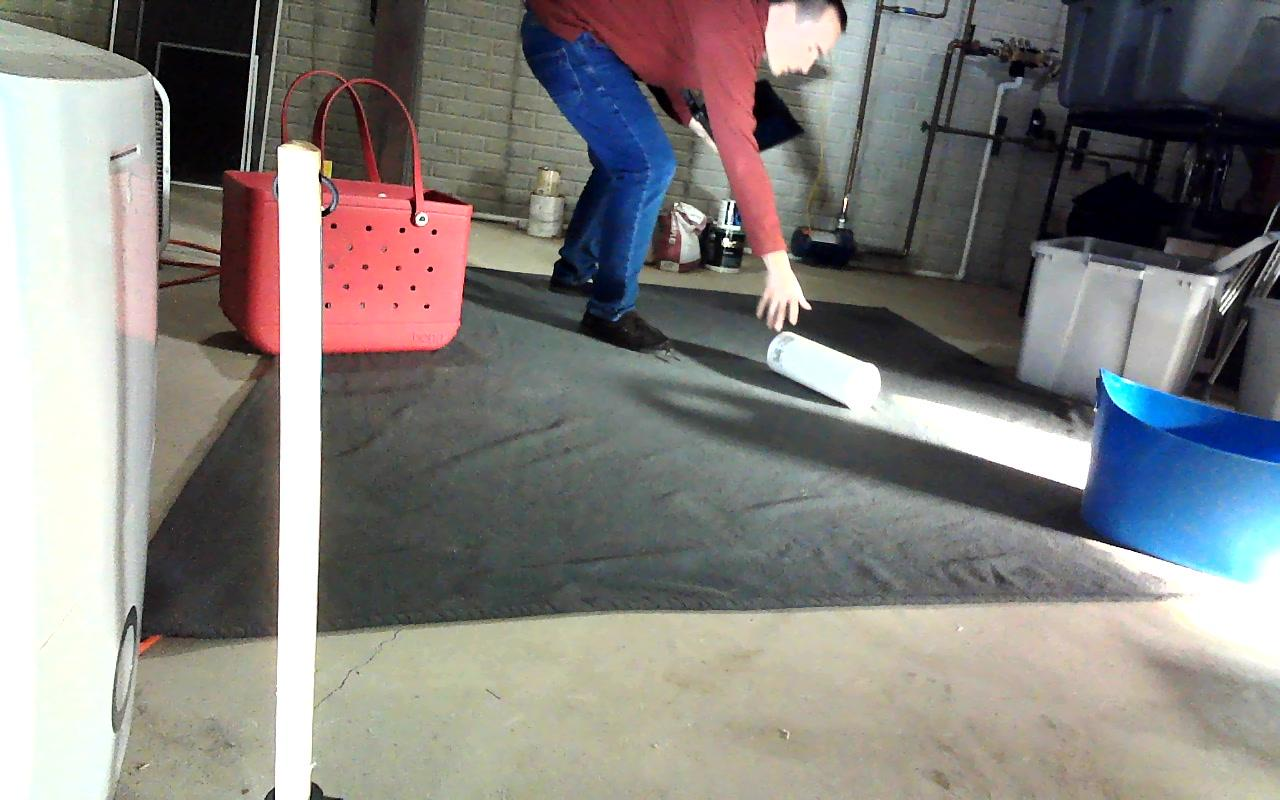coral: (767, 330, 880, 409)
